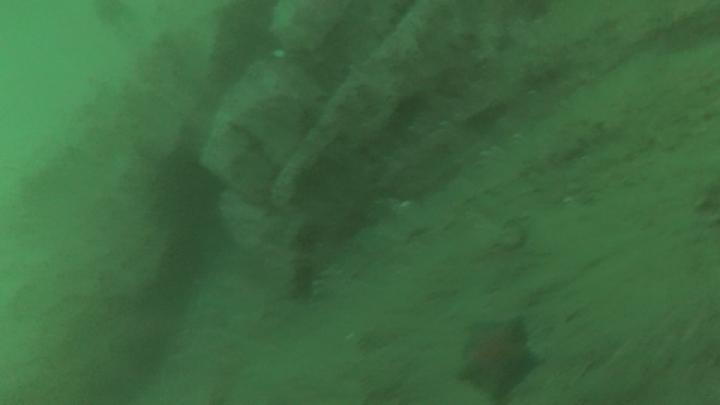starfish: (457, 318, 542, 400)
